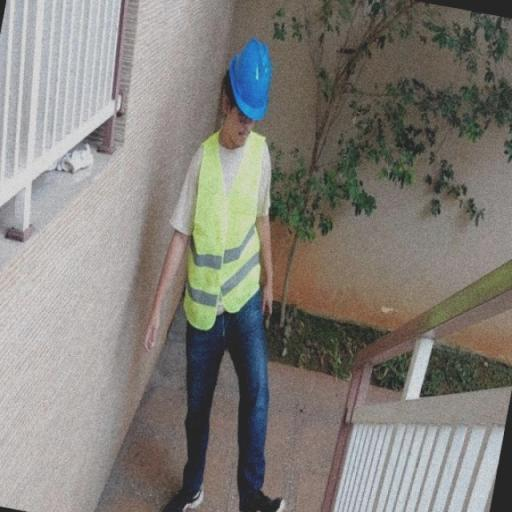Person: (145, 34, 324, 506)
helmet: (222, 33, 286, 127)
vest: (180, 126, 271, 334)
